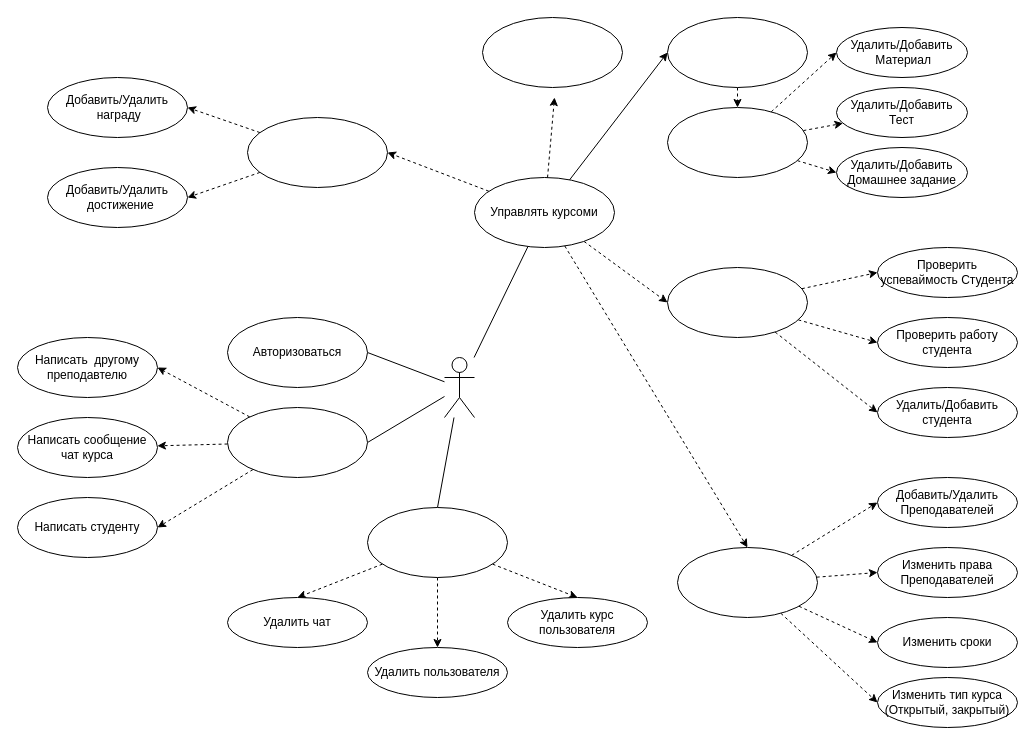
The diagram is 1035 pixels wide and 745 high, and some of its shapes have lost their labels. The centre of each missing label's shape, as x and y in pixels:
"Администратор" belongs at (459,387).
"Изменить содержание и структуру" belongs at (737,142).
"Использовать чат" belongs at (297,442).
"Настроить курс" belongs at (747,582).
"Создать курс" belongs at (737,52).
"Удалить курс" belongs at (552,52).
"Управление геймификацией" belongs at (317,152).
"Управлять аккаунтами пользователей" belongs at (437,542).
"Управлять студентами курса" belongs at (737,302).
